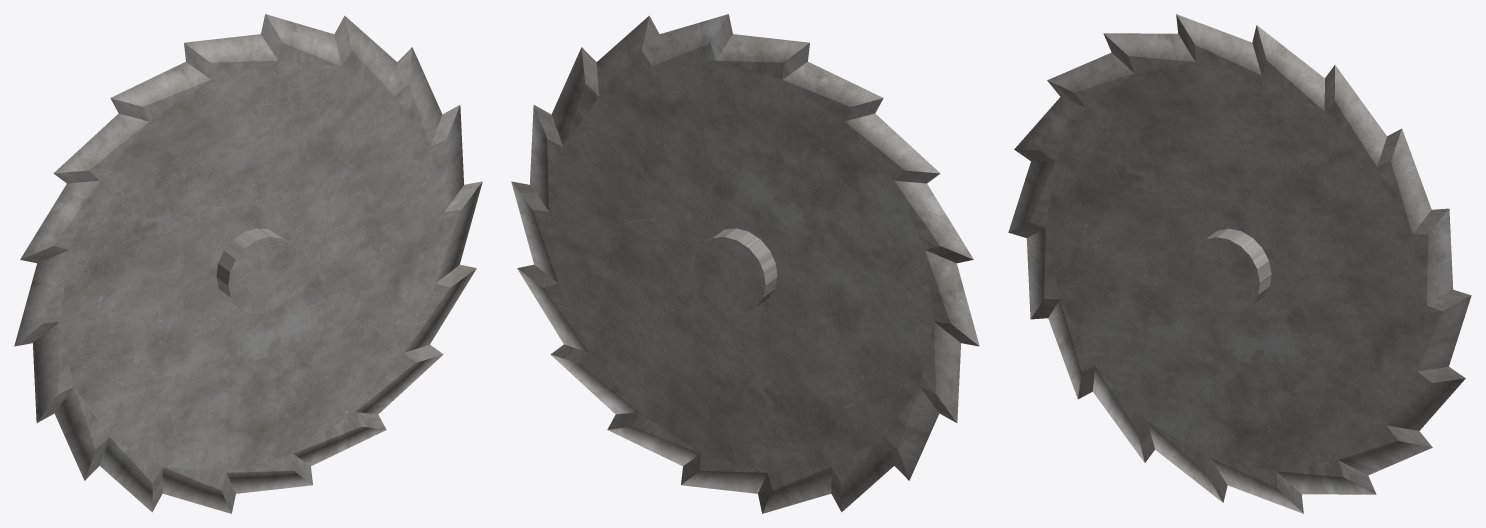
The model's file is Ripper.FBX.
3 views of the same model, side by side, from view 1: azimuth 30°, elevation 25°; view 2: azimuth 150°, elevation 25°; view 3: azimuth 330°, elevation 25° (orthographic).
Parts seen in each view (by area): view 1: SawBlade; view 2: SawBlade; view 3: SawBlade.
Part boxes in pixels (x1=…): SawBlade: x1=14, y1=14, x2=482, y2=513; SawBlade: x1=511, y1=14, x2=979, y2=513; SawBlade: x1=1008, y1=14, x2=1471, y2=513.
Bounding box in the file's own units: 66.71 × 66.9 × 7.74.
